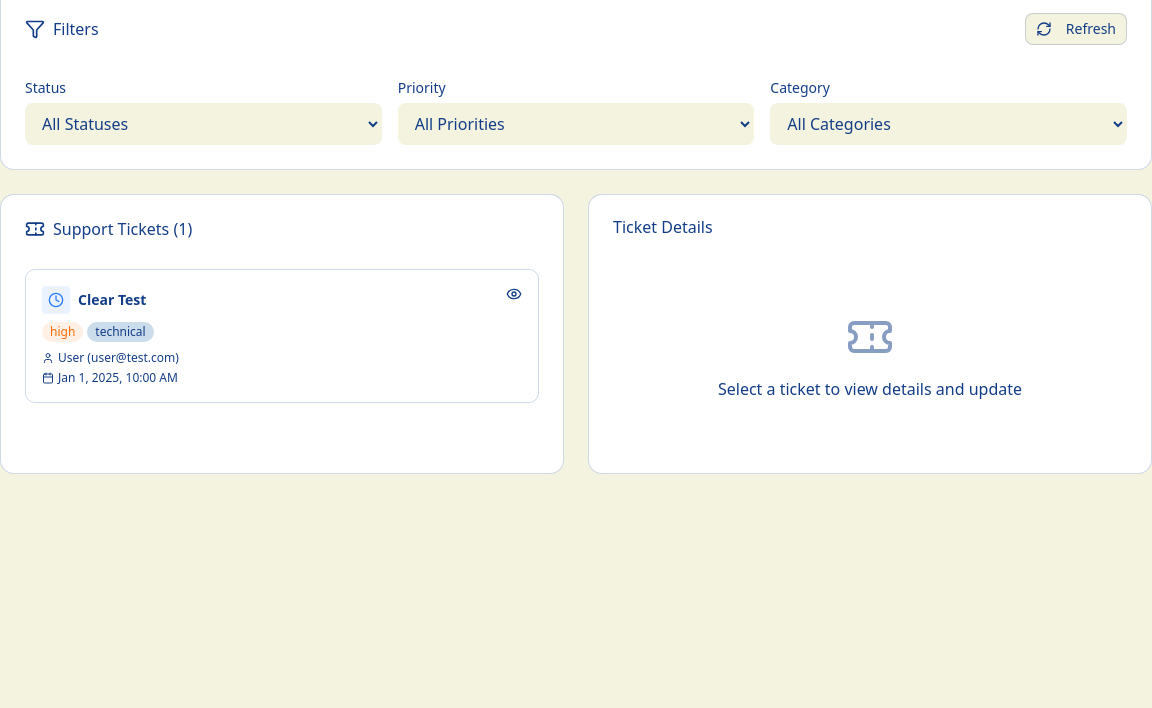
AdminTicketsList › clears selected ticket after successful update
Click the heading "Clear Test": [112, 300] box [78,290,146,310]
(page scrolled)
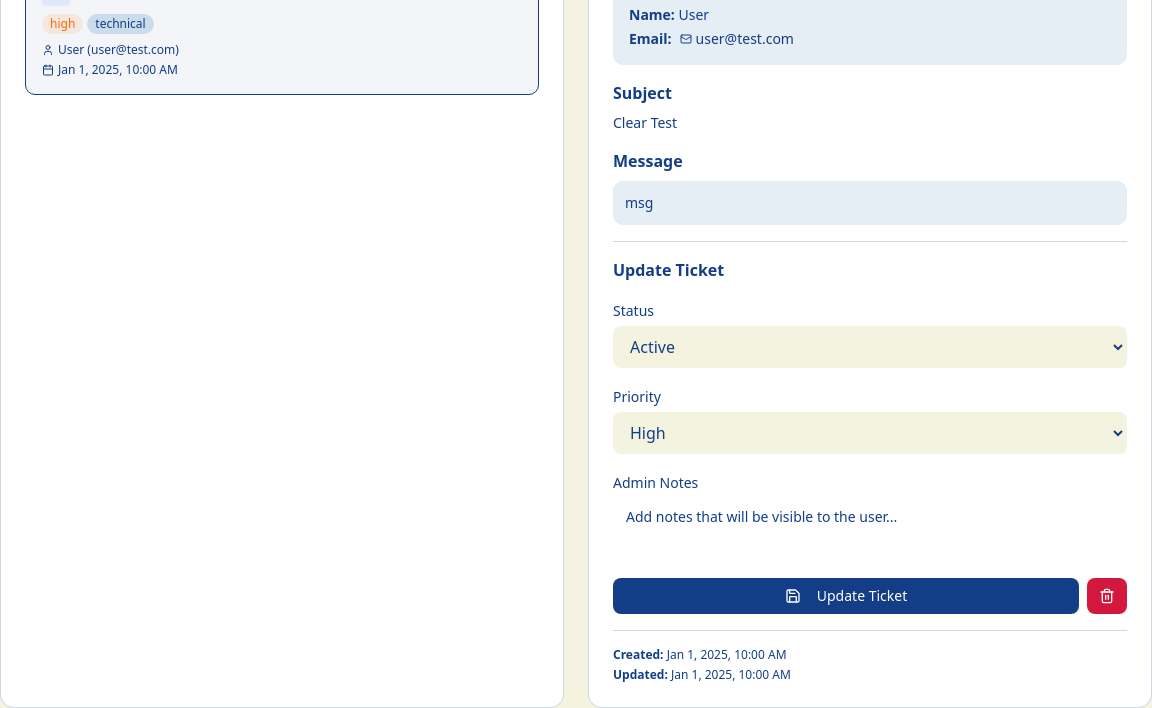
Now the dropdown labelled "Status" is shown, box [613,326,1127,368]
Click the button "Update Ticket": [846, 596] box [613,578,1079,614]
(page scrolled)
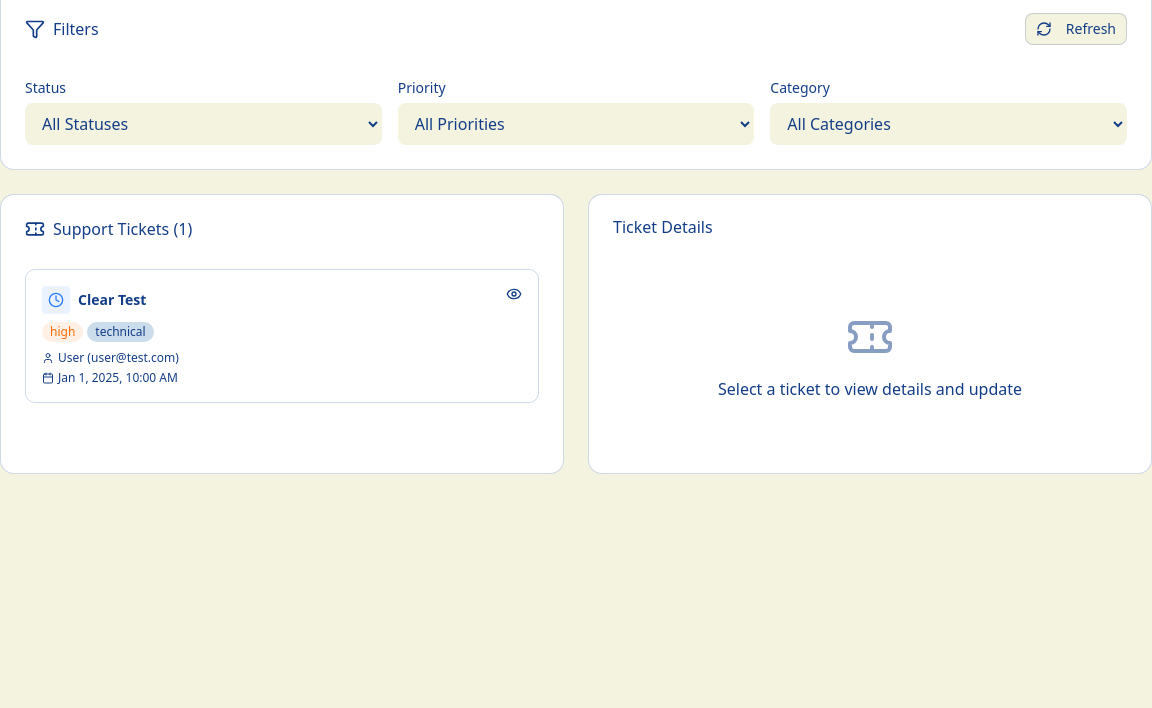
Now the text "Select a ticket to view details and update" is shown, box [718,378,1022,400]
